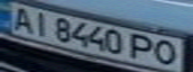0: (103, 27, 127, 56)
4: (66, 20, 90, 47), (87, 24, 106, 52)
8: (48, 16, 72, 43)
A: (6, 4, 39, 33)
I: (27, 10, 54, 37)
O: (151, 38, 184, 66)
P: (127, 33, 160, 61)
